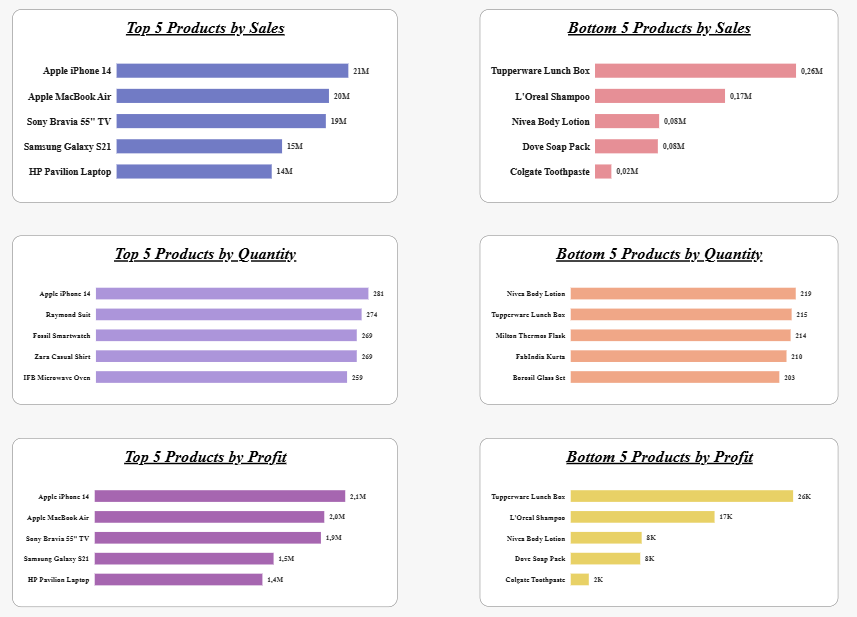

The page's visual inventory and layout, read from the dashboard file:
{"tool":"powerbi","page":{"name":"Top/Bottom 5 Analysis","canvas":[1920,1080],"ordinal":0},"visuals":[{"type":"barChart","title":"Top 5 Products by Sales","fields":{"Category":["Dim Product.Product Name"],"Y":["Sum(Fact Table.Net Sales )"]},"box":[34,18,634,318],"z":0},{"type":"barChart","title":"Bottom 5 Products by Sales","fields":{"Category":["Dim Product.Product Name"],"Y":["Sum(Fact Table.Net Sales )"]},"box":[804,18,590,318],"z":1000},{"type":"barChart","title":"Top 5 Products by Quantity","fields":{"Category":["Dim Product.Product Name"],"Y":["Sum(Fact Table.Units Sold)"]},"box":[34,392,634,278],"z":2000},{"type":"barChart","title":"Bottom 5 Products by Quantity","fields":{"Category":["Dim Product.Product Name"],"Y":["Sum(Fact Table.Units Sold)"]},"box":[804,392,590,278],"z":3000},{"type":"barChart","title":"Top 5 Products by Profit","fields":{"Category":["Dim Product.Product Name"],"Y":["Sum(Fact Table.Profit)"]},"box":[34,724,634,278],"z":4000},{"type":"barChart","title":"Bottom 5 Products by Profit","fields":{"Category":["Dim Product.Product Name"],"Y":["Sum(Fact Table.Profit)"]},"box":[804.8,724.5,634,278],"z":5000}]}

Visuals, with their boxes on the page's 1920x1080 design canvas (x1, y1, x2, y2). These are canvas units, not pixel positions in the 857x617 screenshot, which may show the page scaled, cropped or inside an application window:
"Top 5 Products by Sales" barChart: pyautogui.locateOnScreen(34, 18, 668, 336)
"Bottom 5 Products by Sales" barChart: pyautogui.locateOnScreen(804, 18, 1394, 336)
"Top 5 Products by Quantity" barChart: pyautogui.locateOnScreen(34, 392, 668, 670)
"Bottom 5 Products by Quantity" barChart: pyautogui.locateOnScreen(804, 392, 1394, 670)
"Top 5 Products by Profit" barChart: pyautogui.locateOnScreen(34, 724, 668, 1002)
"Bottom 5 Products by Profit" barChart: pyautogui.locateOnScreen(805, 724, 1439, 1002)
